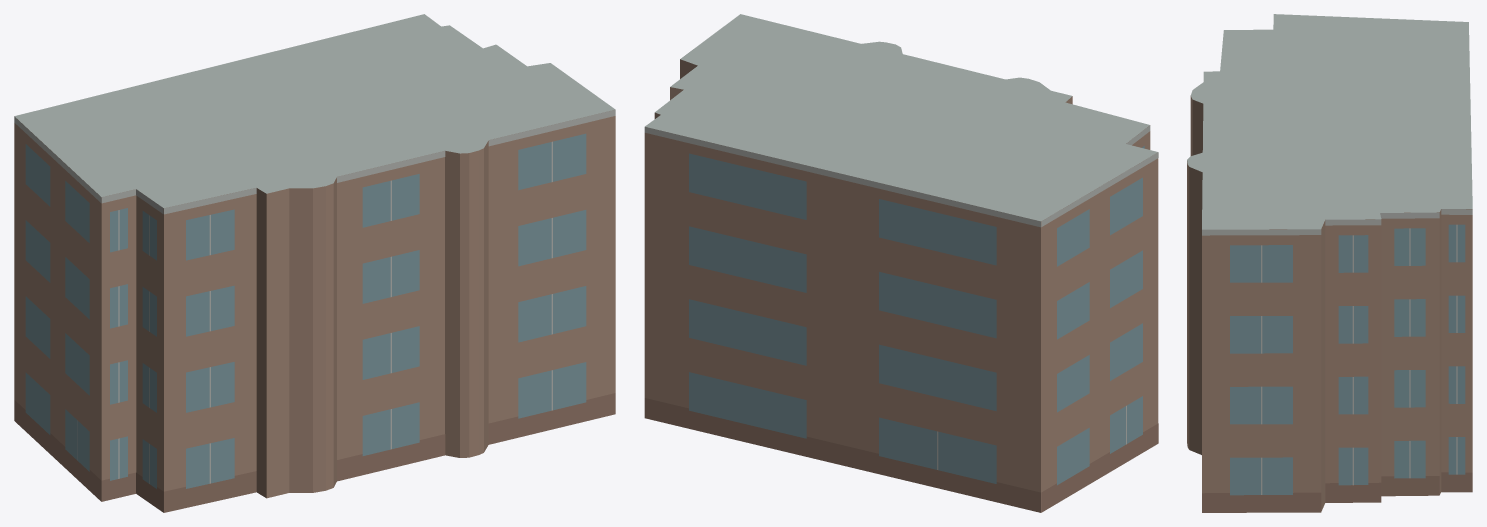
Rendered from survey-upis-32725808.glb.
The picture shows the model from 3 angles, left to right: view 1: azimuth 30°, elevation 25°; view 2: azimuth 150°, elevation 25°; view 3: azimuth 270°, elevation 25°; orthographic projection. The views are drawn at different scales.
Parts seen in each view (by area): view 1: survey-upis-32725808.tmp; view 2: survey-upis-32725808.tmp; view 3: survey-upis-32725808.tmp.
Boxes of the visible parts, x1,y1,x2,y2 form: survey-upis-32725808.tmp: (14,14,615,512); survey-upis-32725808.tmp: (644,14,1158,512); survey-upis-32725808.tmp: (1187,14,1472,512).
Size of the model in its own units: 19.45 by 11.9 by 10.89.
